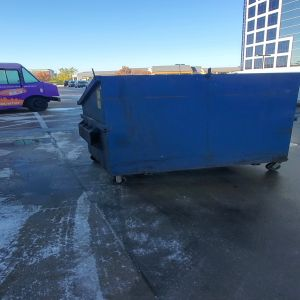Dumpster: (76, 75, 300, 187)
